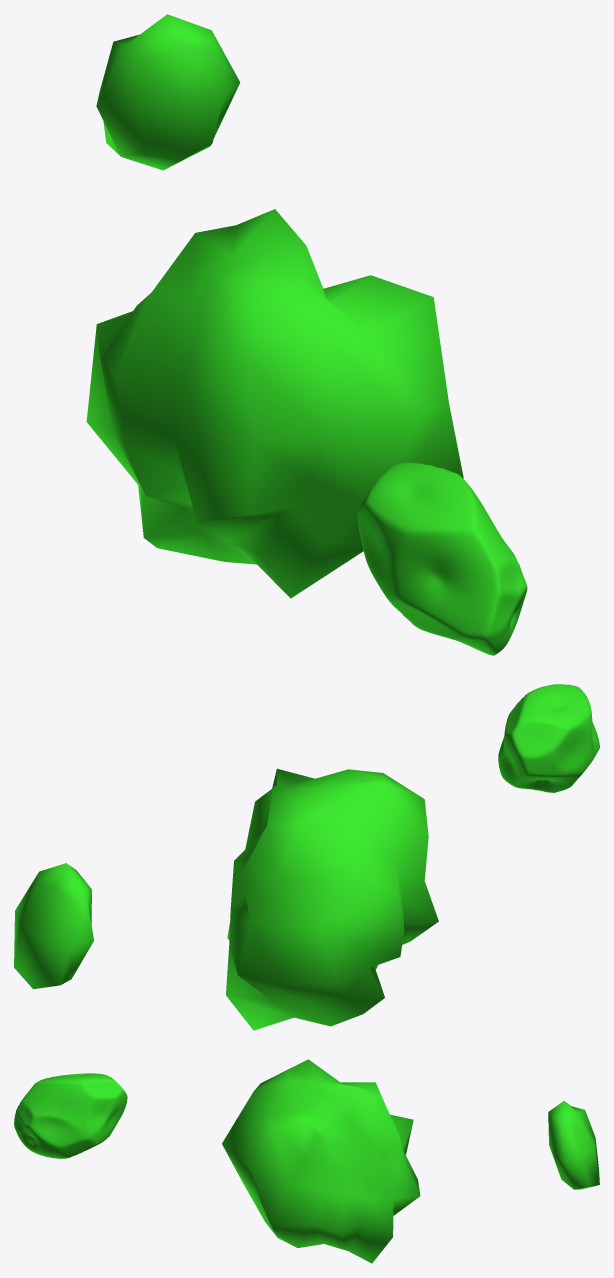
Rendered from Kamień.fbx.
3 renders of one model, top to bottom at view 1: azimuth 30°, elevation 25°; view 2: azimuth 150°, elevation 25°; view 3: azimuth 270°, elevation 25°, orthographic. The views are drawn at different scales.
Parts seen in each view (by area): view 1: Kamień 2, Kamień 1, Kamień 3; view 2: Kamień 2, Kamień 1, Kamień 3; view 3: Kamień 2, Kamień 1, Kamień 3.
Boxes of the visible parts, box(x1,y1,x2,y2) form: Kamień 2: box(86, 209, 463, 598); Kamień 1: box(357, 462, 527, 655); Kamień 3: box(96, 14, 240, 170); Kamień 2: box(226, 768, 438, 1030); Kamień 1: box(498, 684, 599, 792); Kamień 3: box(14, 863, 93, 989); Kamień 2: box(222, 1059, 420, 1263); Kamień 1: box(14, 1073, 127, 1158); Kamień 3: box(548, 1101, 599, 1189).
Size of the model in its own units: 232 by 234 by 678.
